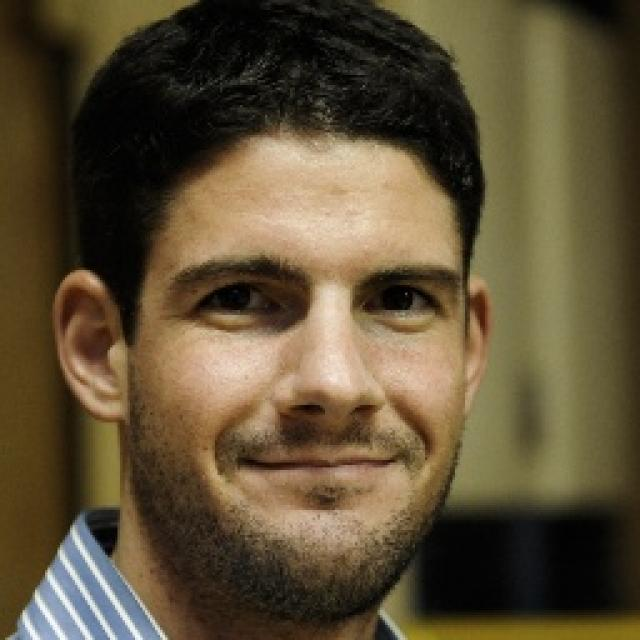earlobe: (91, 378, 130, 424)
eye: (195, 283, 279, 317), (357, 284, 436, 316)
nose: (276, 398, 396, 453)
wholeear: (51, 269, 130, 424), (466, 276, 492, 416)
